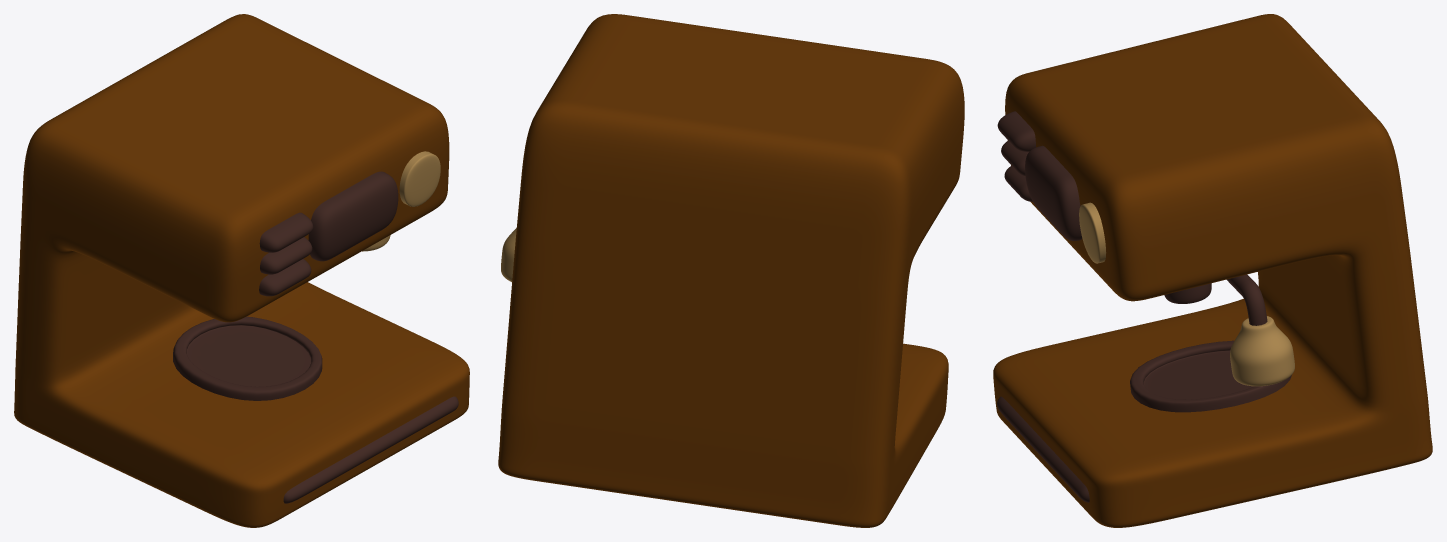
The model's file is coffee-maker.glb.
The picture shows the model from 3 angles, left to right: view 1: azimuth 30°, elevation 25°; view 2: azimuth 150°, elevation 25°; view 3: azimuth 270°, elevation 25°; orthographic projection. The views are drawn at different scales.
Parts seen in each view (by area): view 1: Cube.003, Cube.001, Cube.008, Cube.010, Cube.006, Cube.009, Cube.007; view 2: Cube.003, Cylinder.007; view 3: Cube.003, Cube.001, Cylinder.007, Cube.008, Cube.010, Cube.009, BezierCurve, Cube.007, Cube.006, Cylinder.001.
Boxes of the visible parts, x1,y1,x2,y2 form: Cube.003: [14, 14, 469, 527]; Cube.001: [173, 316, 322, 400]; Cube.008: [308, 171, 398, 261]; Cube.010: [283, 396, 458, 503]; Cube.006: [259, 237, 312, 296]; Cube.009: [399, 151, 440, 206]; Cube.007: [259, 212, 313, 252]; Cube.003: [498, 14, 964, 527]; Cylinder.007: [501, 228, 516, 281]; Cube.003: [993, 14, 1432, 527]; Cube.001: [1130, 340, 1291, 412]; Cylinder.007: [1230, 316, 1294, 386]; Cube.008: [1025, 145, 1082, 240]; Cube.010: [997, 396, 1089, 502]; Cube.009: [1079, 202, 1106, 263]; BezierCurve: [1226, 274, 1267, 325]; Cube.007: [997, 111, 1035, 151]; Cube.006: [1001, 140, 1032, 201]; Cylinder.001: [1164, 283, 1211, 303].
Bounding box in the file's own units: 2.38 × 2.18 × 2.31.
